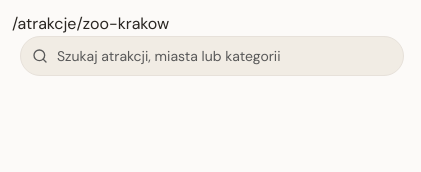
Test case: HeaderSearch na karcie atrakcji (FMN-B54) › karta bez stanu (link, Google, ctrl+klik): jak dotąd /?search=
Type "park linowy" into the search field. click: (212, 56)
box: left=20, top=36, right=404, bottom=76
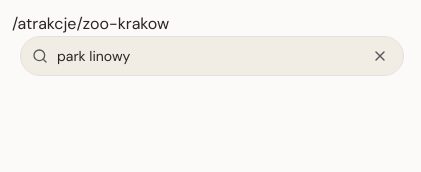
Submit the form named "searchbox", box left=20, top=36, right=404, bottom=76
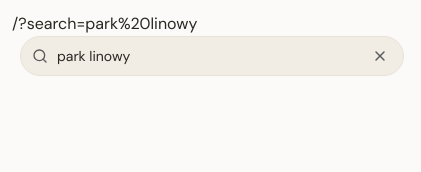
Check: the text with test id "adres" reads "/?search=park%20linowy", box left=12, top=13, right=197, bottom=34
